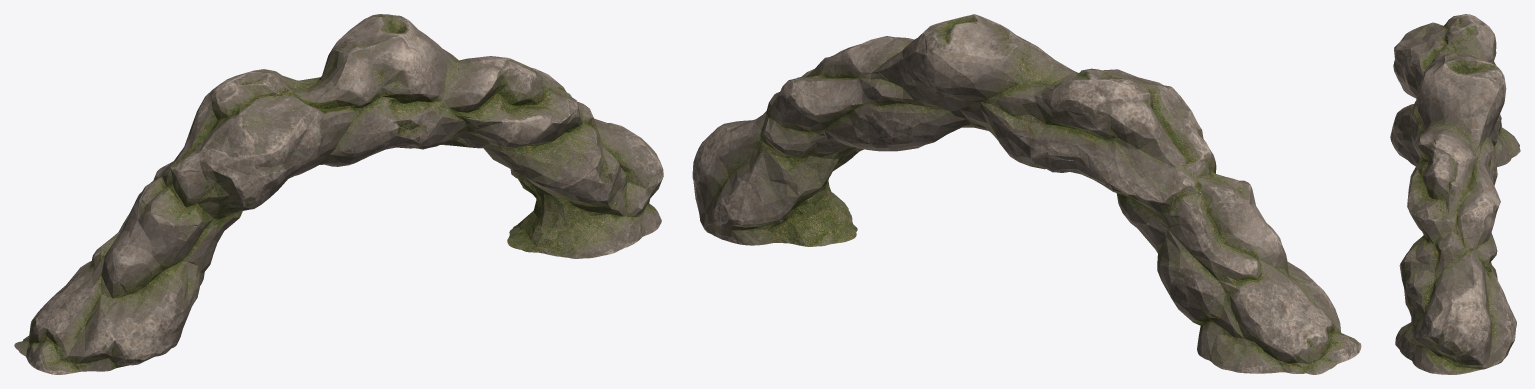
File: SAMMPLE.fbx
The picture shows the model from 3 angles, left to right: view 1: azimuth 30°, elevation 25°; view 2: azimuth 150°, elevation 25°; view 3: azimuth 270°, elevation 25°; orthographic projection. The views are drawn at different scales.
Parts seen in each view (by area): view 1: ROCK__POLY_REDUSED_; view 2: ROCK__POLY_REDUSED_; view 3: ROCK__POLY_REDUSED_.
Part boxes in pixels (<box>): ROCK__POLY_REDUSED_: <box>14,14,663,374</box>; ROCK__POLY_REDUSED_: <box>692,14,1361,374</box>; ROCK__POLY_REDUSED_: <box>1390,14,1520,374</box>.
Bounding box in the file's own units: 500 × 186 × 106.
Materials: 1 (1 with a texture image).
